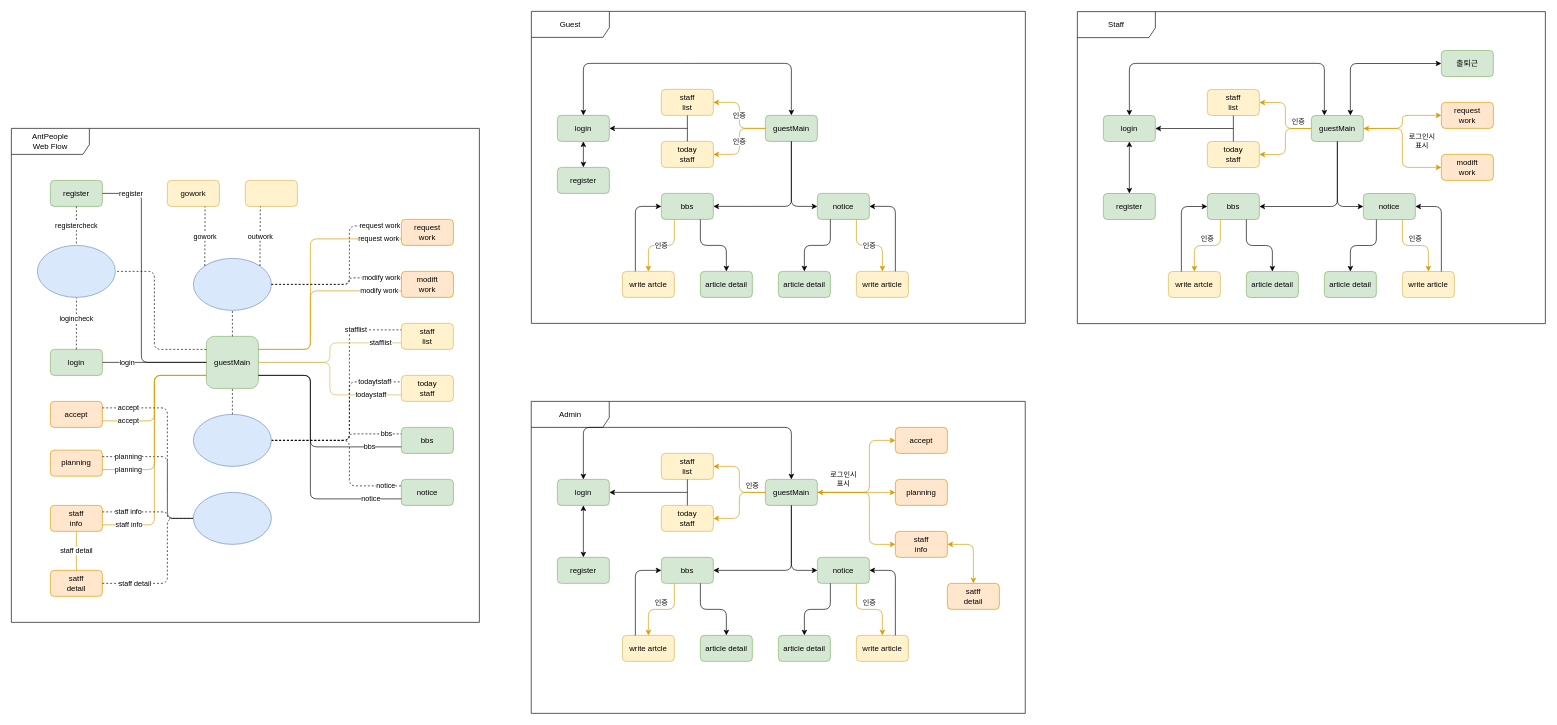
Some shapes in this 1557 by 725 pixel diagram are drawn without their labels. The shapes that lost their labels are listed below. From the top down, each one's centre as x and y in pixels, then its label:
At (271,193): "offwork".
At (76,271): "UserController".
At (232,284): "staffController".
At (232,440): "MainController".
At (232,518): "AdminController".
